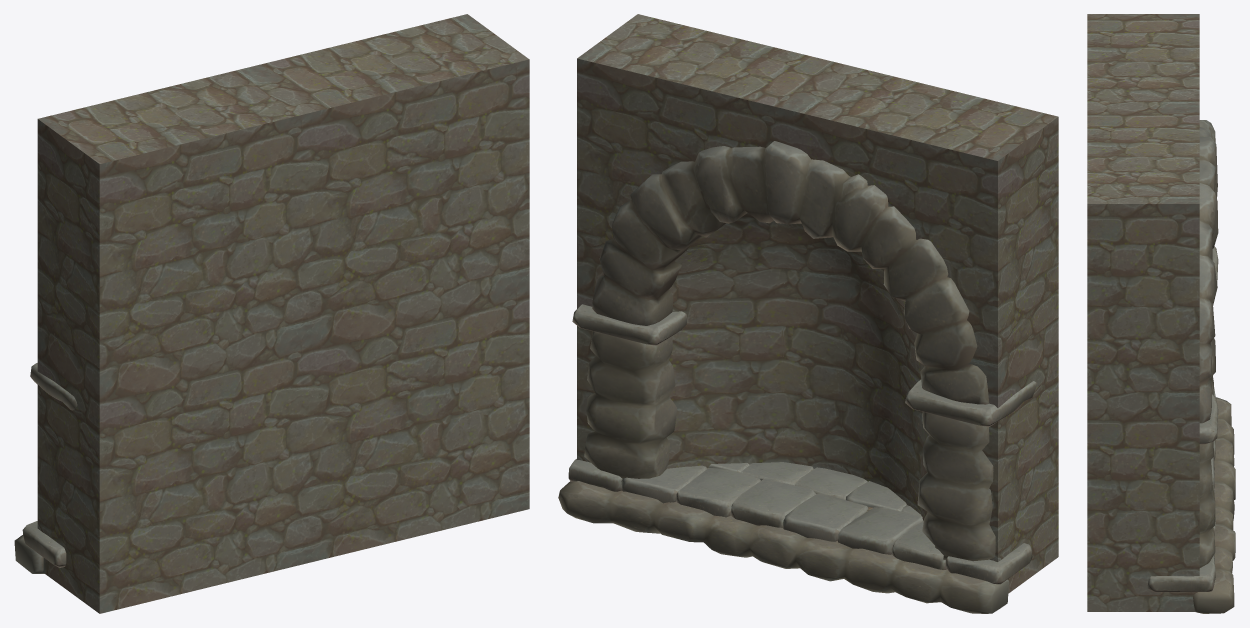
Rendered from SM_FW01_Ruins_Int_Wall_B_4x4_01.fbx.
3 views of the same model, side by side, from view 1: azimuth 30°, elevation 25°; view 2: azimuth 150°, elevation 25°; view 3: azimuth 270°, elevation 25° (orthographic). The views are drawn at different scales.
Visible parts, largest first — view 1: SM_FW01_Ruins_Int_Wall_B_4x4_01, SM_FW01_Ruins_Int_Wall_B_4x4_01_LOD0; view 2: SM_FW01_Ruins_Int_Wall_B_4x4_01, SM_FW01_Ruins_Int_Wall_B_4x4_01_LOD0; view 3: SM_FW01_Ruins_Int_Wall_B_4x4_01, SM_FW01_Ruins_Int_Wall_B_4x4_01_LOD0.
Part boxes in pixels (bbox=[...]): SM_FW01_Ruins_Int_Wall_B_4x4_01: bbox=[37, 14, 529, 613]; SM_FW01_Ruins_Int_Wall_B_4x4_01_LOD0: bbox=[14, 363, 77, 573]; SM_FW01_Ruins_Int_Wall_B_4x4_01: bbox=[577, 14, 1058, 593]; SM_FW01_Ruins_Int_Wall_B_4x4_01_LOD0: bbox=[558, 141, 1037, 613]; SM_FW01_Ruins_Int_Wall_B_4x4_01: bbox=[1087, 14, 1199, 611]; SM_FW01_Ruins_Int_Wall_B_4x4_01_LOD0: bbox=[1147, 120, 1235, 613].
Size of what is drawn, in the model's own units: 4.13 by 4.06 by 1.32.
